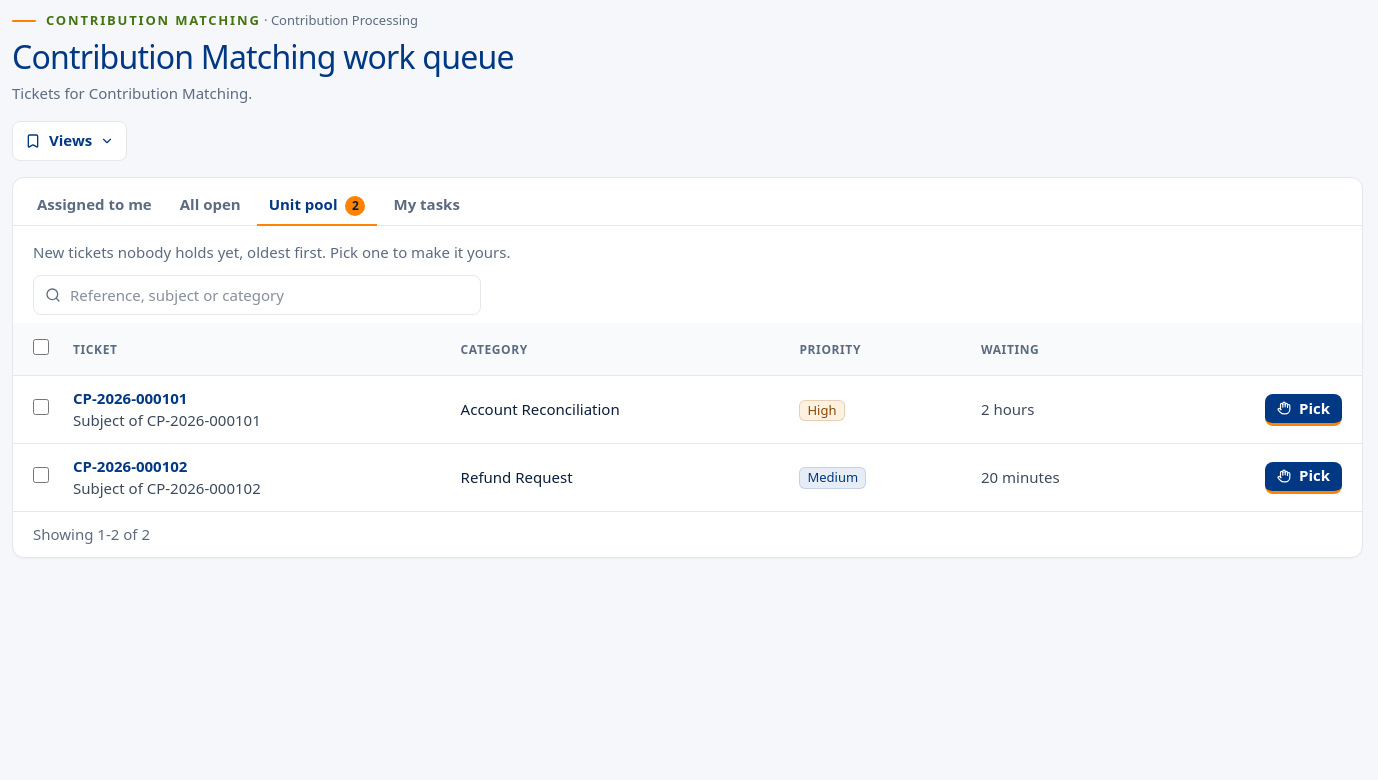
Scenario: Unit pool › Pick takes the ticket, shows the message and opens it
The width and height of the screenshot is (1378, 780).
Click the button named "Pick CP-2026-000101".
click(1304, 410)  # box [1265,394,1342,426]
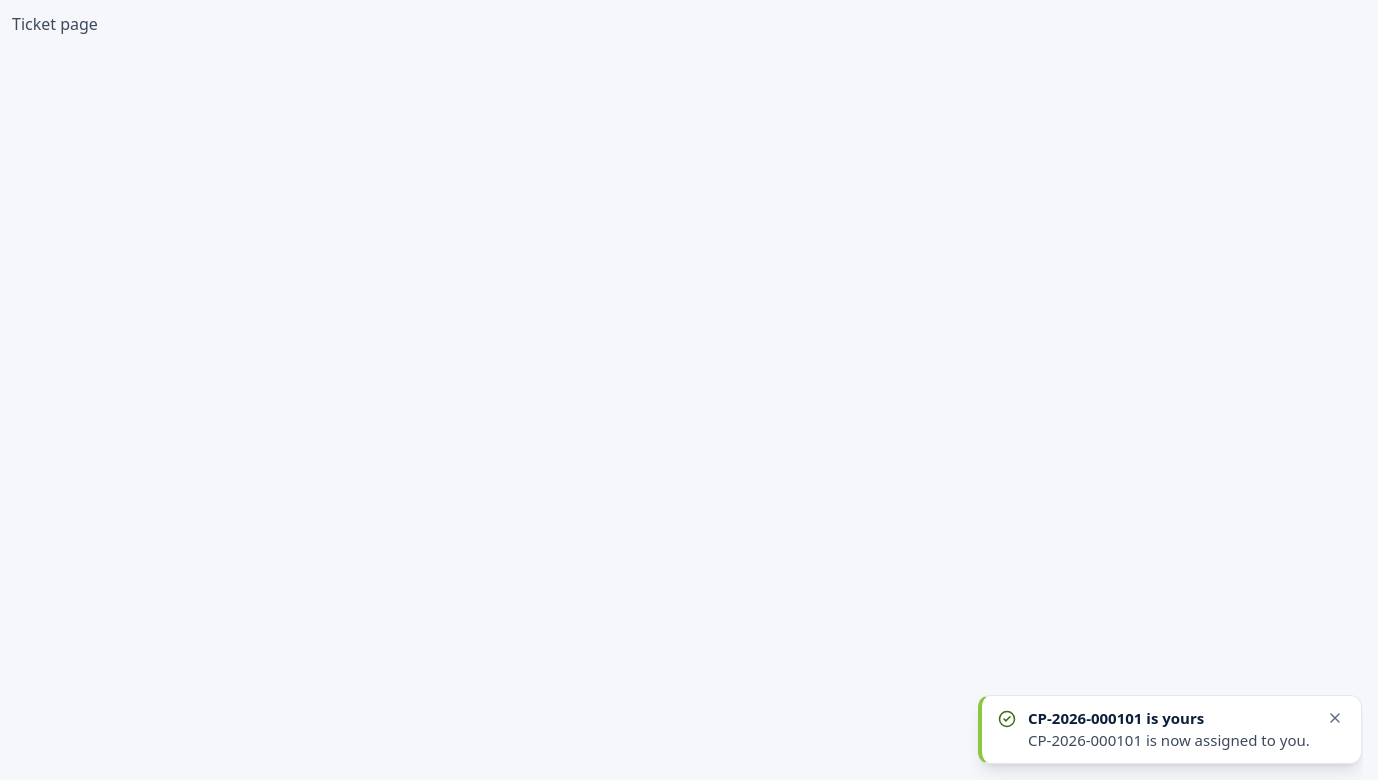
Expected: the text "Ticket page" is shown, [12,13,98,35]
Expected: the text "CP-2026-000101 is now assigned to you." is shown, [1028,730,1313,751]
